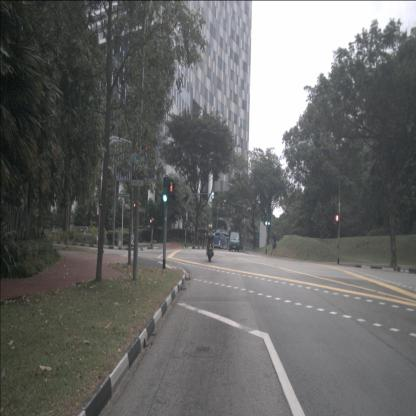human-pedestrian-adult: (270, 231, 277, 257)
vehicle-bus-rigid: (212, 228, 229, 250)
vehicle-car: (74, 226, 92, 244), (82, 228, 102, 244), (229, 232, 240, 252)
vehicle-motorcycle: (205, 224, 215, 262)
